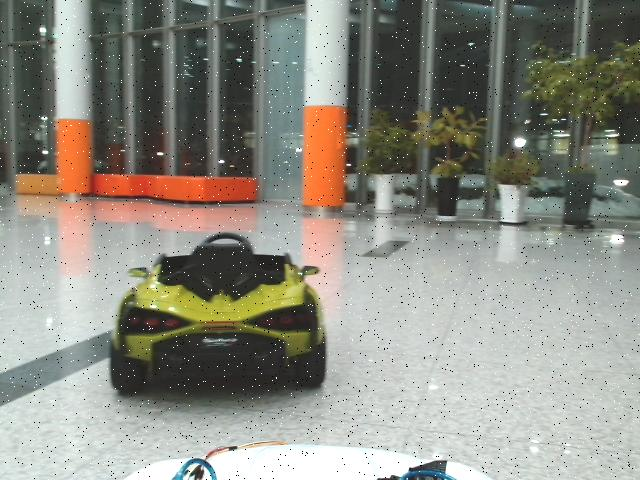car: (111, 233, 327, 398)
